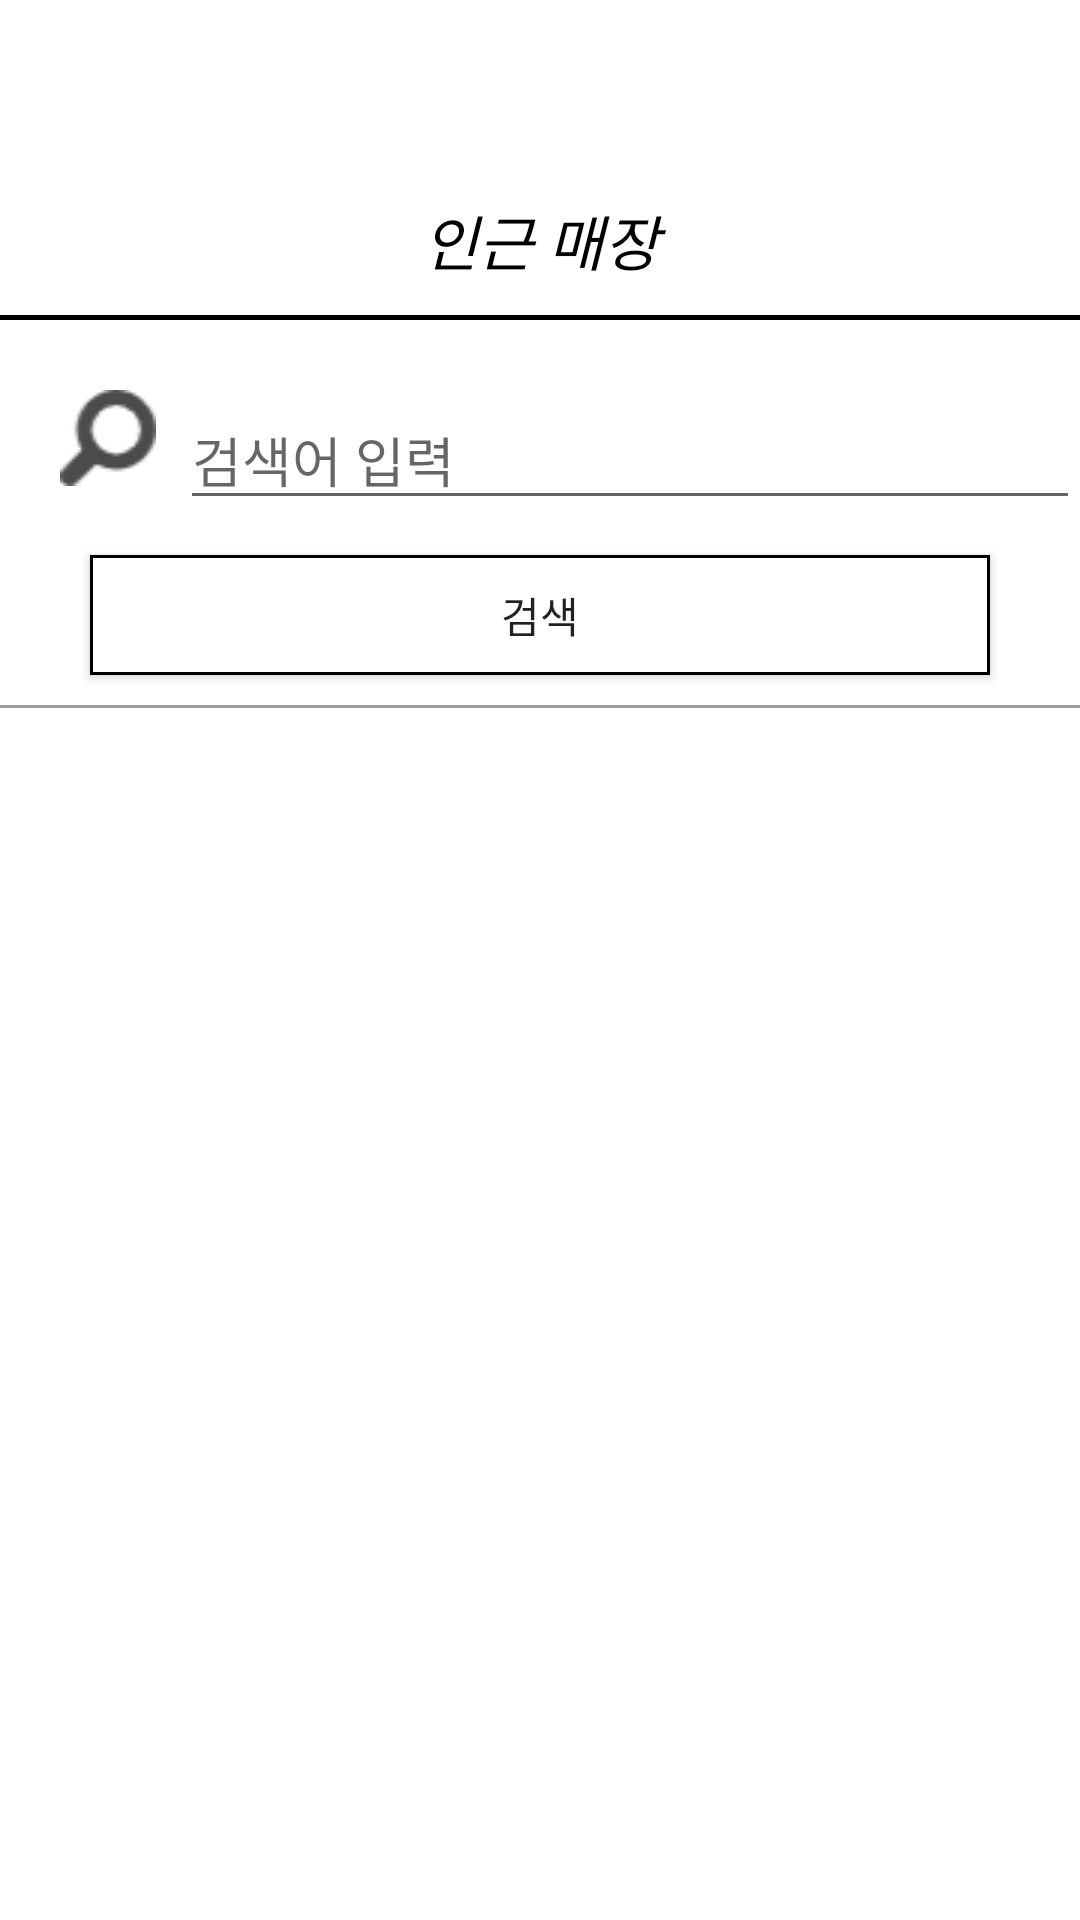

Named icons in this screenshot (1080w x 1920h) and their bounding boxes, BBox(x1, y1, x2, y2):
search: BBox(60, 390, 156, 486)
